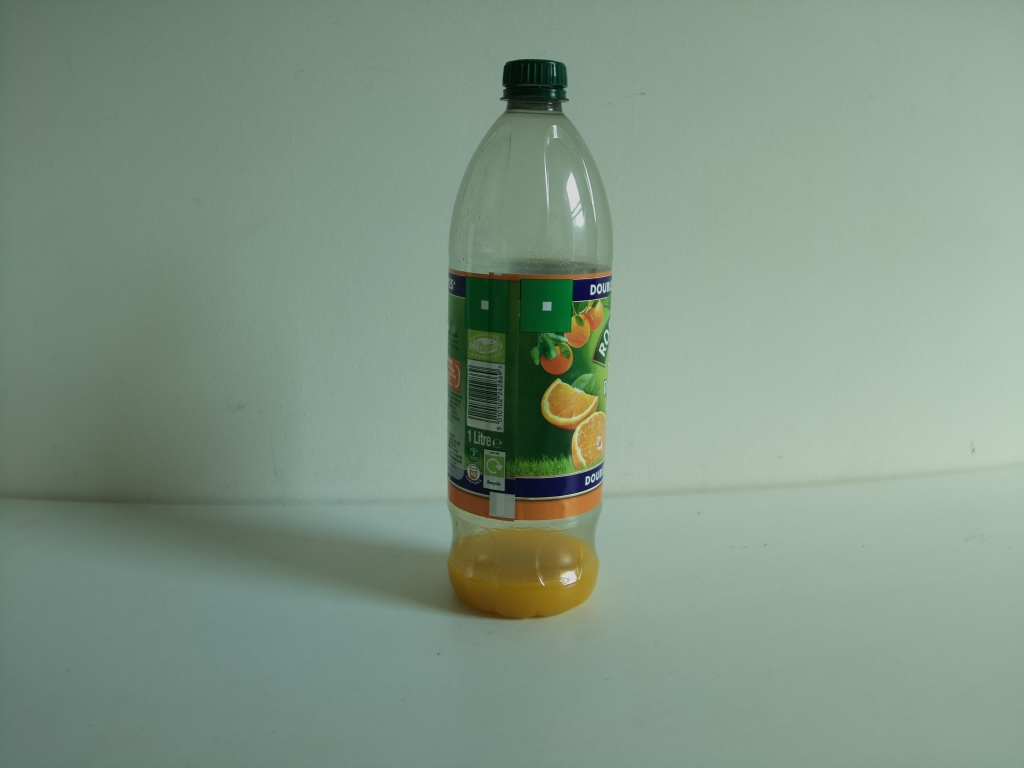juice: (438, 56, 615, 624)
